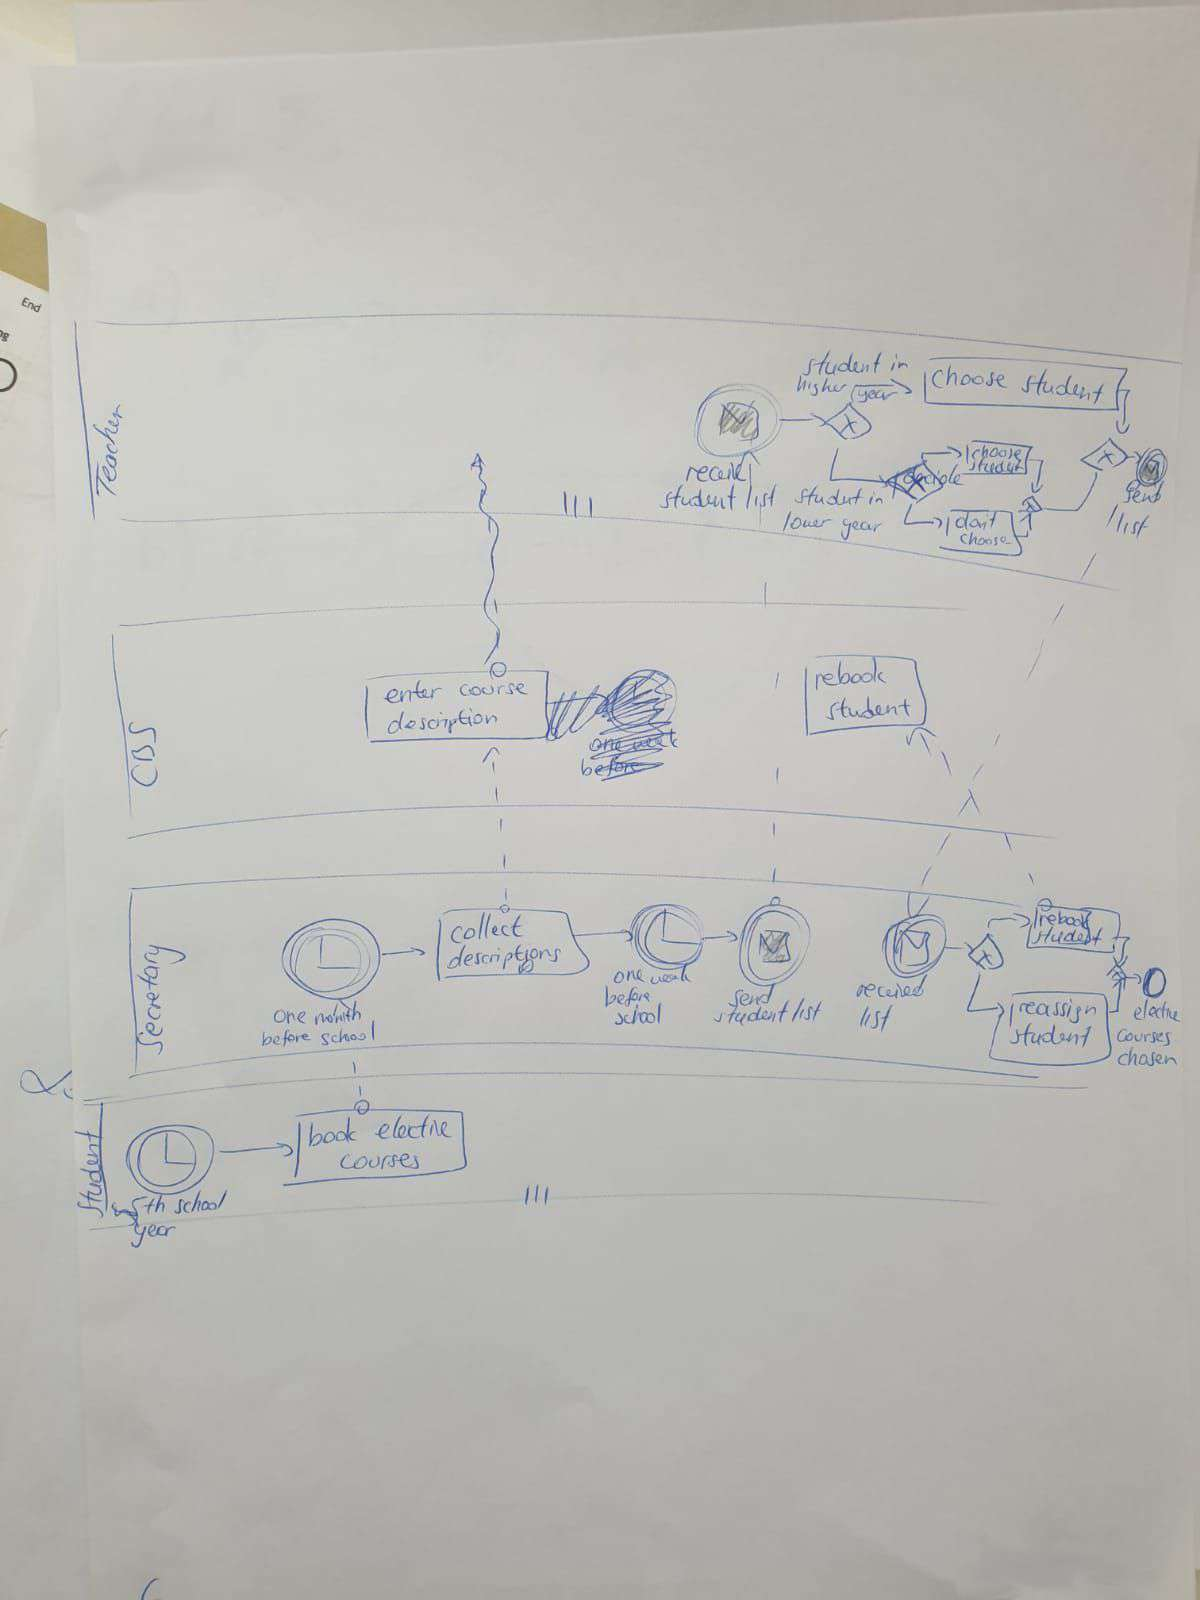5th: (126, 1190, 168, 1223)
CBS: (125, 722, 162, 788)
III: (552, 487, 597, 517), (520, 1183, 551, 1207)
One: (272, 1006, 311, 1029)
Secretary: (136, 940, 185, 1055)
Sent: (1121, 480, 1158, 504)
Teacher: (90, 403, 128, 496)
before: (601, 986, 658, 1007), (261, 1028, 313, 1050)
book: (304, 1117, 363, 1147)
choose: (931, 364, 1010, 392), (968, 444, 1024, 462), (959, 531, 1011, 549)
chosen: (1117, 1051, 1182, 1070)
collect: (448, 914, 528, 946)
course: (457, 679, 532, 704)
courses: (340, 1150, 420, 1173), (1117, 1027, 1171, 1048)
decide: (898, 463, 960, 492)
description: (387, 708, 500, 734)
descriptions: (447, 950, 562, 972)
don't: (959, 514, 998, 530)
elective: (376, 1115, 455, 1141), (1130, 1003, 1181, 1024)
enter: (385, 680, 443, 706)
higher: (793, 378, 852, 397)
in: (889, 353, 913, 378), (869, 488, 887, 507)
list: (1114, 512, 1153, 540), (787, 998, 827, 1026), (740, 488, 781, 512), (859, 1004, 891, 1033)
lower: (782, 511, 835, 535)
month: (316, 1004, 364, 1028)
one: (613, 965, 650, 985)
reassign: (1015, 997, 1103, 1024)
rebook: (810, 658, 886, 692), (1035, 909, 1098, 932)
receive: (683, 460, 745, 483)
received: (853, 977, 934, 1002)
school: (171, 1188, 232, 1217), (321, 1023, 377, 1044), (612, 1006, 663, 1029)
send: (730, 981, 779, 1008)
student: (73, 1125, 113, 1219), (1023, 368, 1114, 397), (803, 351, 882, 380), (1008, 1023, 1094, 1050), (658, 485, 733, 514), (824, 700, 912, 724), (715, 1002, 791, 1028), (792, 485, 865, 511), (1031, 927, 1106, 951), (966, 461, 1027, 479)
weak: (645, 967, 695, 989)
year: (129, 1219, 176, 1248), (839, 514, 885, 539), (854, 387, 902, 401)
